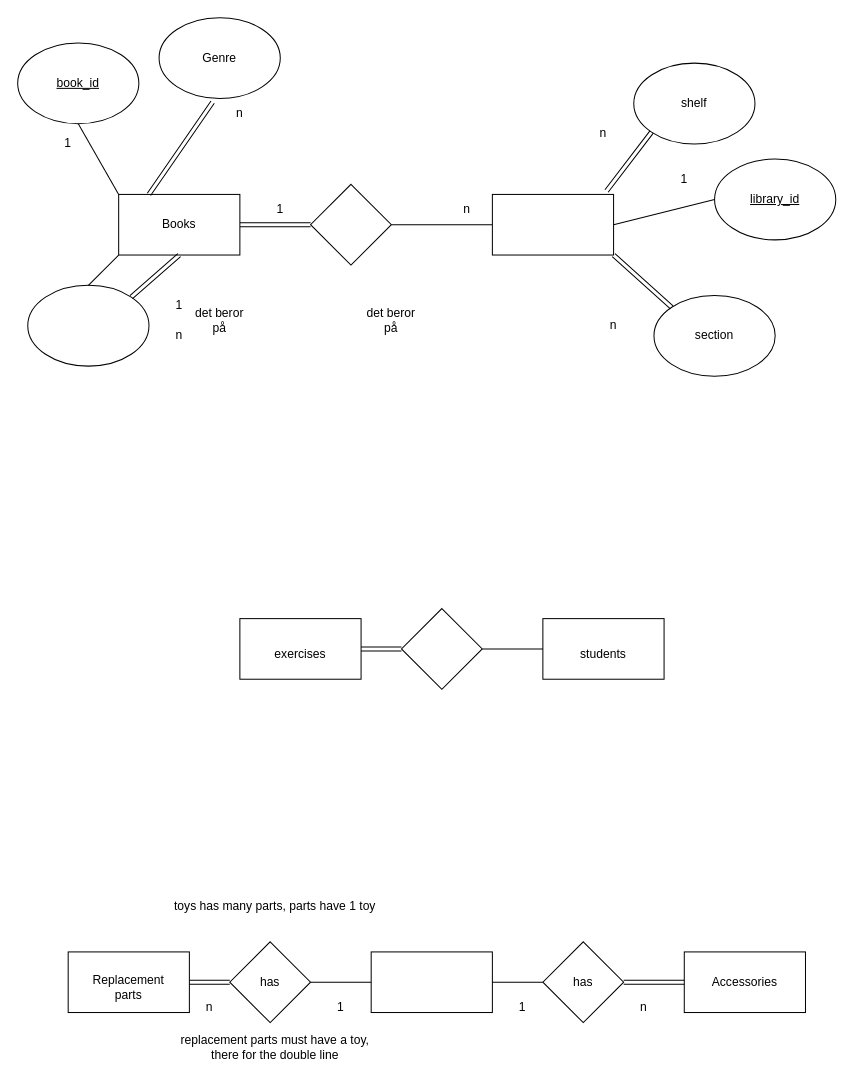
This 853x1091 diagram has some shape labels left out. The shapes that lost their labels are listed below. From the top down, each one's box as (x1, y1, x2, y2) in pixels, then its label:
(310, 183, 391, 265): titels
(491, 193, 614, 255): Library
(27, 284, 149, 366): Title
(370, 951, 492, 1013): Toys
